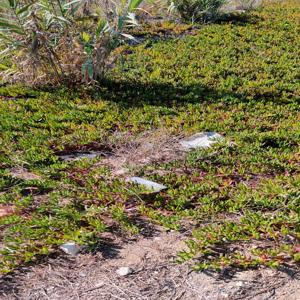plastic: (170, 124, 237, 156), (122, 172, 171, 198)
